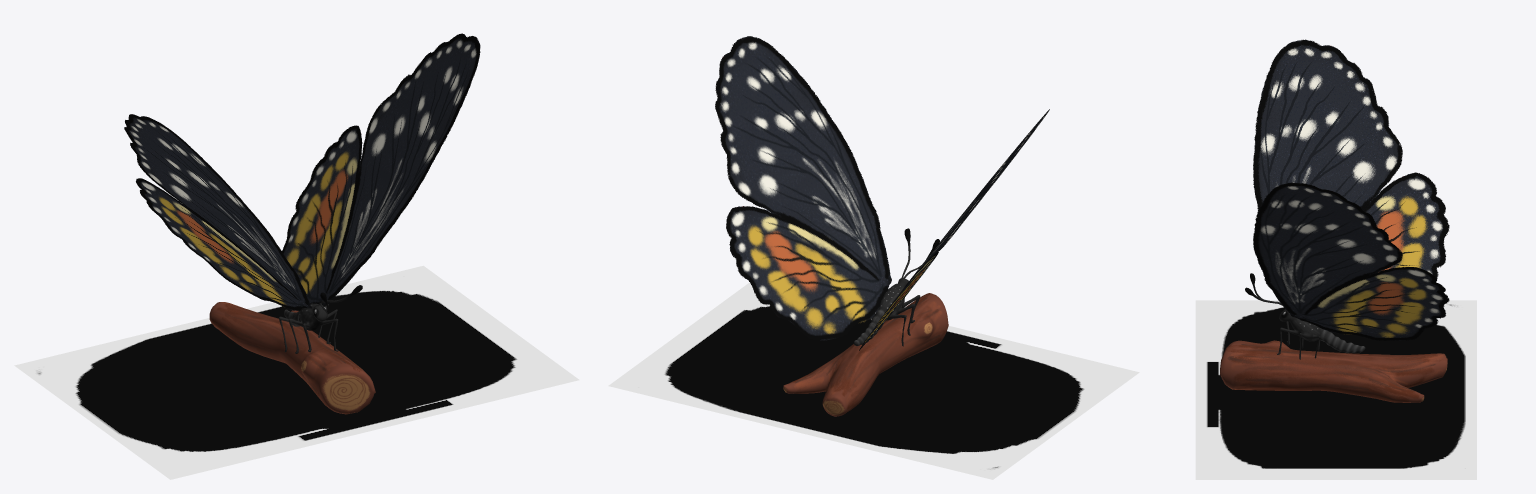
The model's file is mariposaModel.fbx.
3 renders of one model, left to right at view 1: azimuth 30°, elevation 25°; view 2: azimuth 150°, elevation 25°; view 3: azimuth 270°, elevation 25°, orthographic. The views are drawn at different scales.
Visible parts, largest first — view 1: mariposas_sombra, mariposas_ala, mariposas_tronco, mariposas_cuerpo; view 2: mariposas_sombra, mariposas_ala, mariposas_tronco, mariposas_cuerpo; view 3: mariposas_ala, mariposas_sombra, mariposas_tronco, mariposas_cuerpo.
Part boxes in pixels (bbox=[...]): mariposas_sombra: bbox=[14, 265, 579, 479]; mariposas_ala: bbox=[124, 33, 480, 310]; mariposas_tronco: bbox=[209, 302, 375, 414]; mariposas_cuerpo: bbox=[279, 285, 362, 353]; mariposas_sombra: bbox=[608, 282, 1139, 479]; mariposas_ala: bbox=[715, 36, 1049, 350]; mariposas_tronco: bbox=[783, 293, 948, 416]; mariposas_cuerpo: bbox=[853, 228, 939, 346]; mariposas_ala: bbox=[1253, 39, 1449, 340]; mariposas_sombra: bbox=[1195, 300, 1476, 479]; mariposas_tronco: bbox=[1220, 340, 1447, 402]; mariposas_cuerpo: bbox=[1245, 273, 1365, 359].
Bounding box in the file's own units: 12.39 × 9.59 × 10.31.
